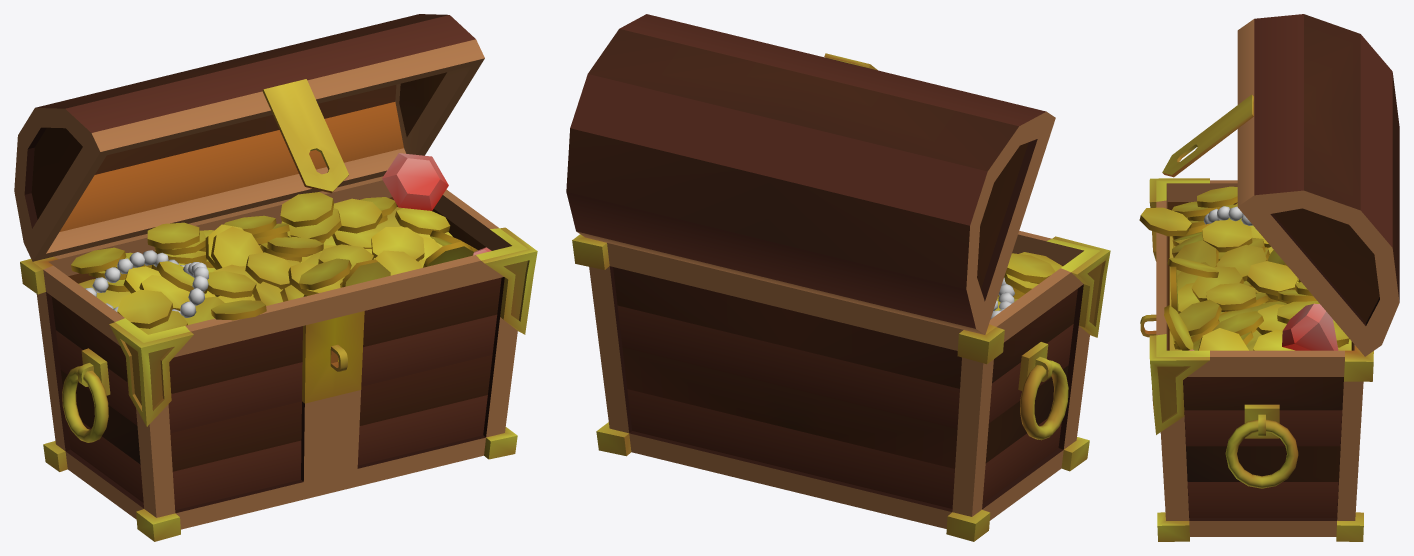
Rendered from chestBlender.glb.
3 views of the same model, side by side, from view 1: azimuth 30°, elevation 25°; view 2: azimuth 150°, elevation 25°; view 3: azimuth 270°, elevation 25° (orthographic). The views are drawn at different scales.
Parts seen in each view (by area): view 1: Cube.006_0; view 2: Cube.006_0; view 3: Cube.006_0.
Part boxes in pixels (left/top/right/bottom): Cube.006_0: left=14, top=14, right=537, bottom=541; Cube.006_0: left=566, top=14, right=1110, bottom=541; Cube.006_0: left=1139, top=14, right=1399, bottom=541.
Bounding box in the file's own units: 1.26 × 1.13 × 0.7472.
